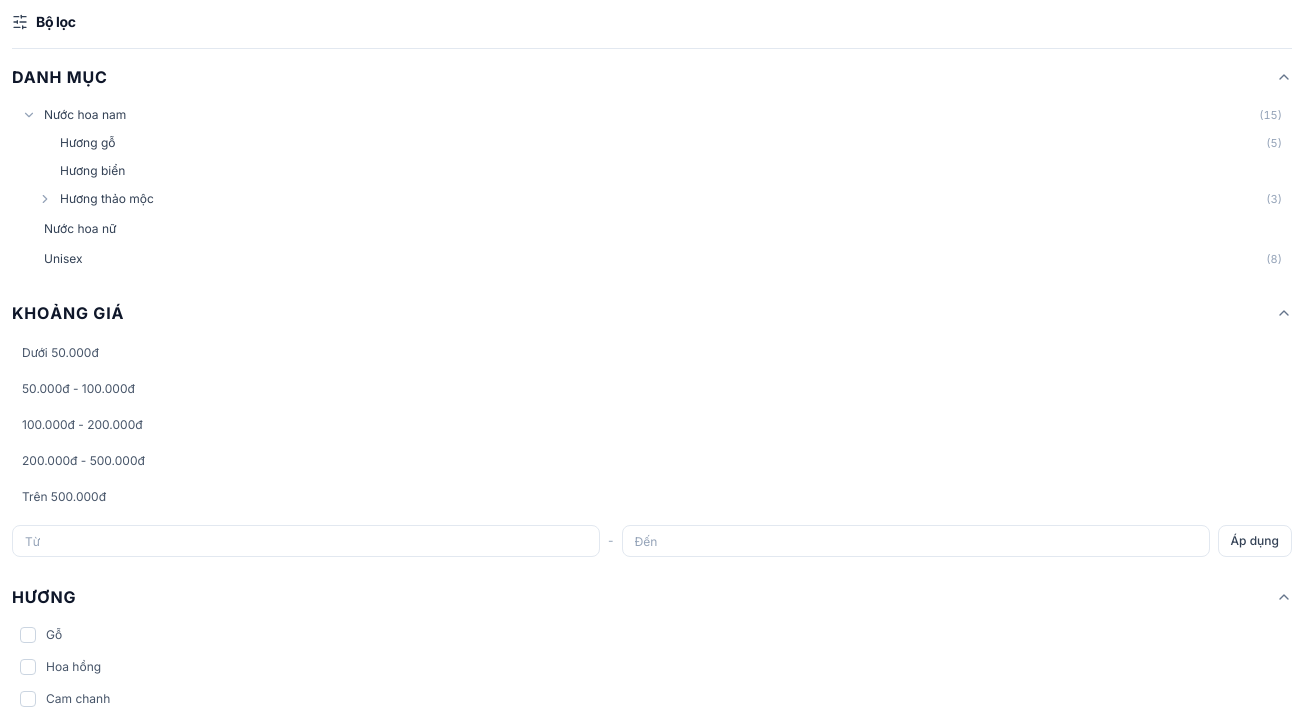
Test case: FilterSidebar › CategoryTreeItem and category selection › depth 1 categories with children start collapsed and expand on click
Expected: the text "Oải hương" is not shown
Click the button "Hương thảo mộc (3)": (107, 198) [14,185,1292,213]
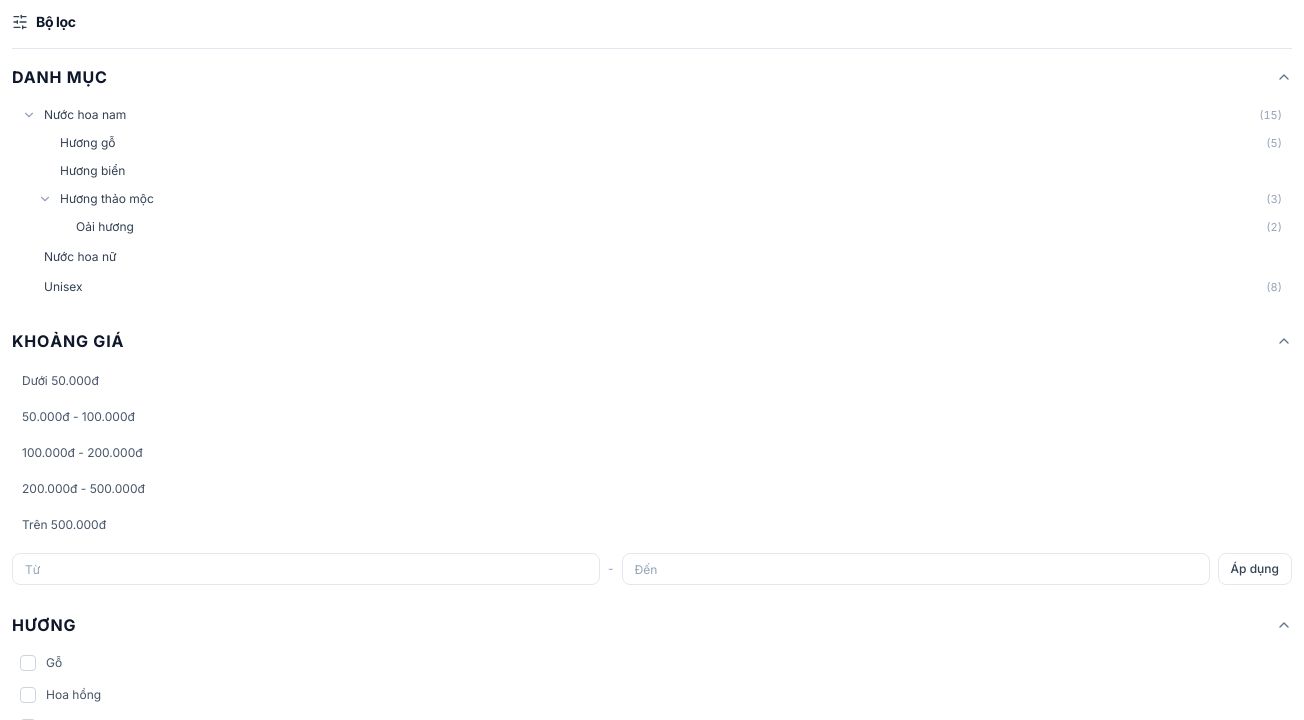
Expected: the text "Oải hương" is shown, [76,219,134,234]
Expected: the text "(2)" is shown, [1266,219,1282,235]
Click again to collapse
Click the button "Hương thảo mộc (3)": (107, 198) [14,185,1292,213]
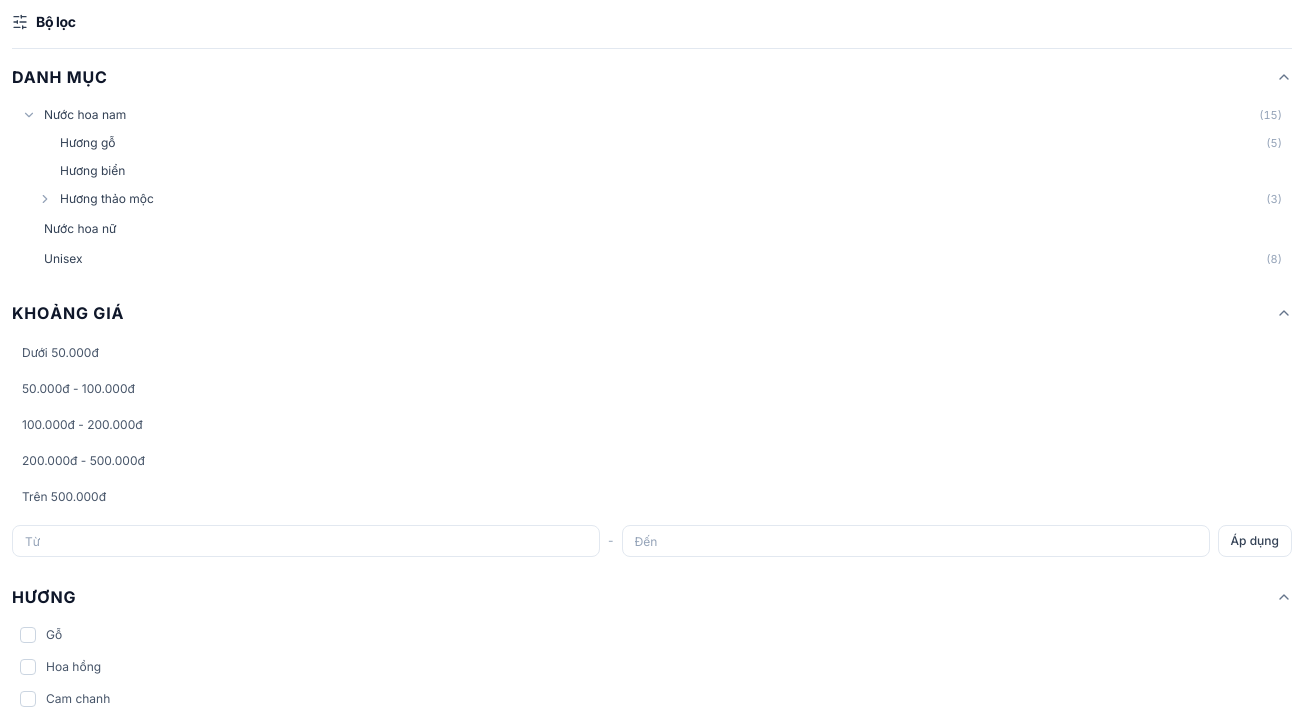
Expected: the button "Oải hương" is gone
